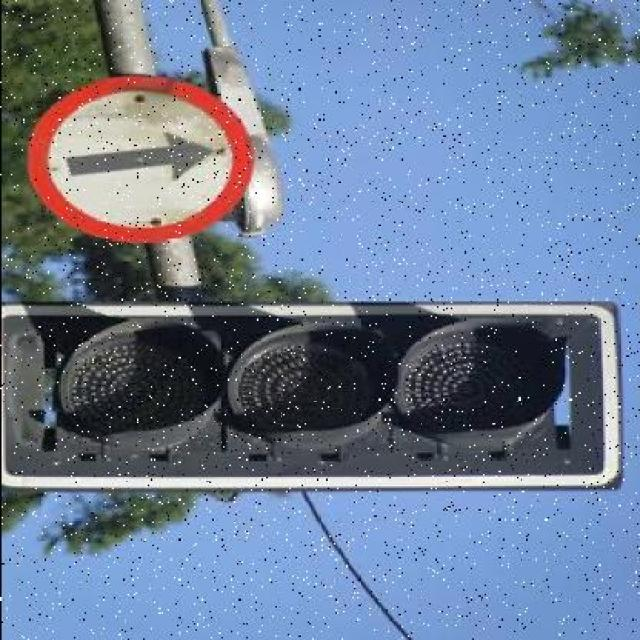traffic-light: (5, 298, 624, 489)
